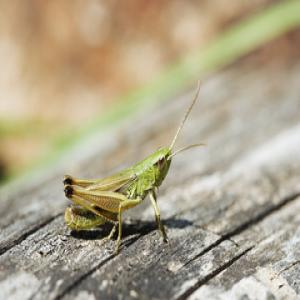locust: (56, 101, 199, 240)
